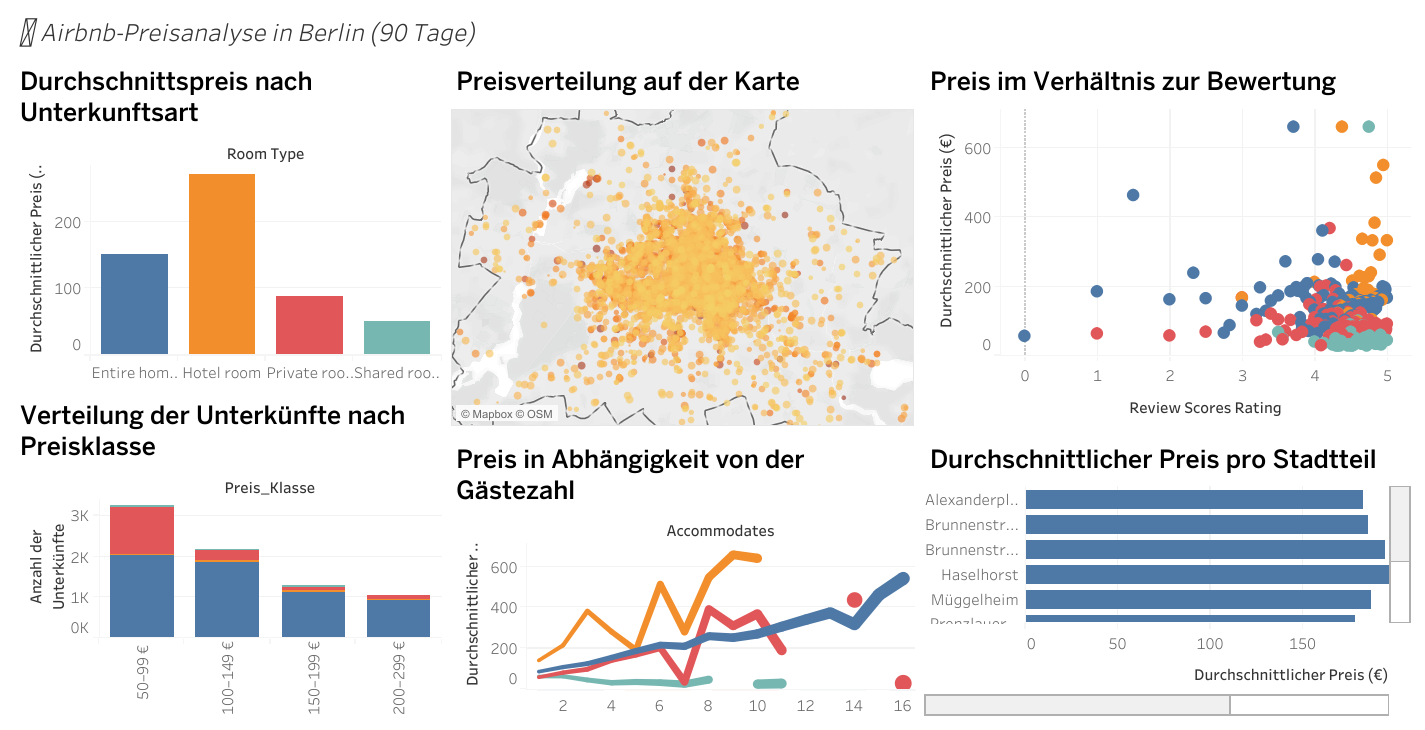

The dashboard page shown, as its layout file describes it:
{"tool":"tableau","page":{"name":"Dashboard 1","canvas":[1000,1000],"units":"permille","ordinal":0},"visuals":[{"type":"title","box":[4.2,9.6,991.5,48.1]},{"type":"worksheet","title":"Preis nach Unterkunftsart","mark":"Automatic","rows":["Calculation_5923077998965354496"],"cols":["room_type"],"box":[4.2,57.8,307.5,466.3]},{"type":"worksheet","title":"Karte der Preise","mark":"Circle","rows":["latitude"],"cols":["longitude"],"box":[311.8,57.8,334.4,527.5]},{"type":"worksheet","title":"Preis vs. Bewertung","mark":"Pie","rows":["Calculation_5923077998965354496"],"cols":["review_scores_rating"],"box":[646.1,57.8,349.6,527.5]},{"type":"worksheet","title":"Preisverteilung","mark":"Automatic","rows":["merged.csv_A1626BCED6DA45B796A6CB6A2AB7A449"],"cols":["Calculation_5923077998967058433"],"box":[4.2,524.1,307.5,466.3]},{"type":"worksheet","title":"Preis vs. Kapazität","mark":"Line","rows":["Calculation_5923077998965354496"],"cols":["accommodates"],"box":[311.8,585.3,334.4,405.1]},{"type":"worksheet","title":"Preis nach Stadtteil","mark":"Automatic","rows":["neighbourhood_cleansed"],"cols":["Calculation_5923077998965354496"],"box":[646.1,585.3,349.6,405.1]}]}

Visuals, with their boxes on the dashboard's canvas, which has no fixed pixel size, in thousandths of its width and height (x1, y1, x2, y2). These are canvas units, not pixel positions in the 1425x730 screenshot, which may show the page scaled, cropped or inside an application window:
title: [left=4, top=10, right=996, bottom=58]
"Preis nach Unterkunftsart" worksheet: [left=4, top=58, right=312, bottom=524]
"Karte der Preise" worksheet (Circle marks): [left=312, top=58, right=646, bottom=585]
"Preis vs. Bewertung" worksheet (Pie marks): [left=646, top=58, right=996, bottom=585]
"Preisverteilung" worksheet: [left=4, top=524, right=312, bottom=990]
"Preis vs. Kapazität" worksheet (Line marks): [left=312, top=585, right=646, bottom=990]
"Preis nach Stadtteil" worksheet: [left=646, top=585, right=996, bottom=990]
